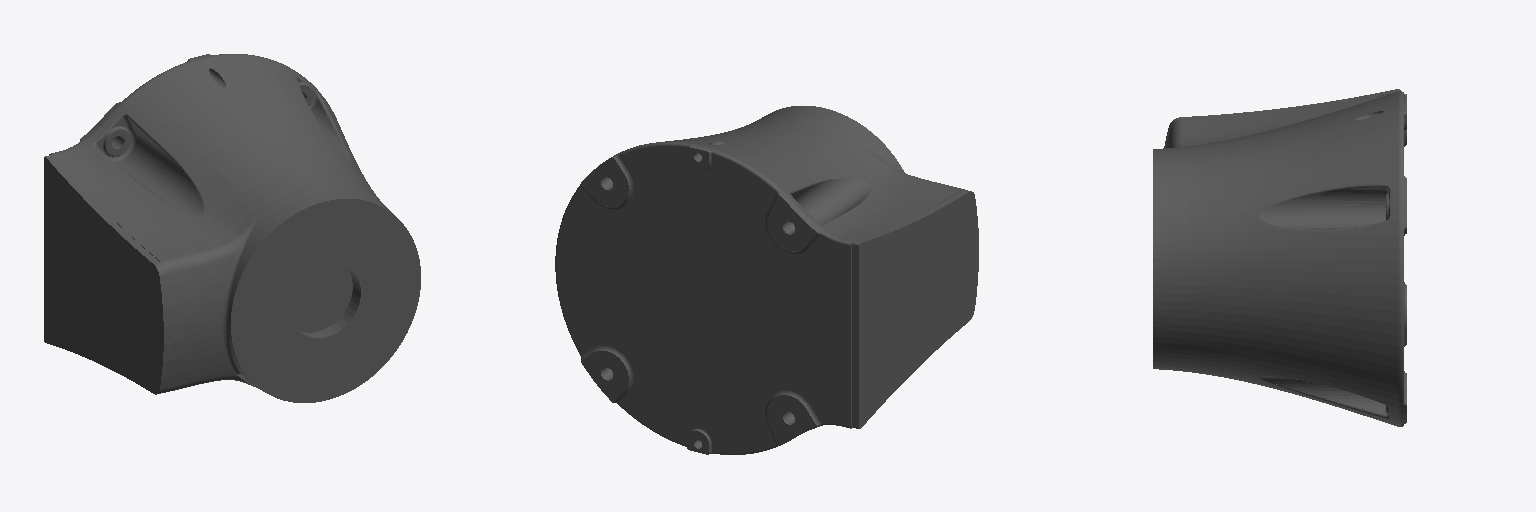
File: link_0_vis.obj
The picture shows the model from 3 angles: view 1: azimuth 30°, elevation 25°; view 2: azimuth 150°, elevation 25°; view 3: azimuth 270°, elevation 25°; orthographic projection.
Visible parts, largest first — view 1: Link_0_Vis; view 2: Link_0_Vis; view 3: Link_0_Vis.
Boxes of the visible parts, x1,y1,x2,y2 form: Link_0_Vis: [44, 54, 420, 402]; Link_0_Vis: [555, 106, 978, 454]; Link_0_Vis: [1153, 89, 1406, 426].
Bounding box in the file's own units: 0.2169 × 0.2079 × 0.1575.